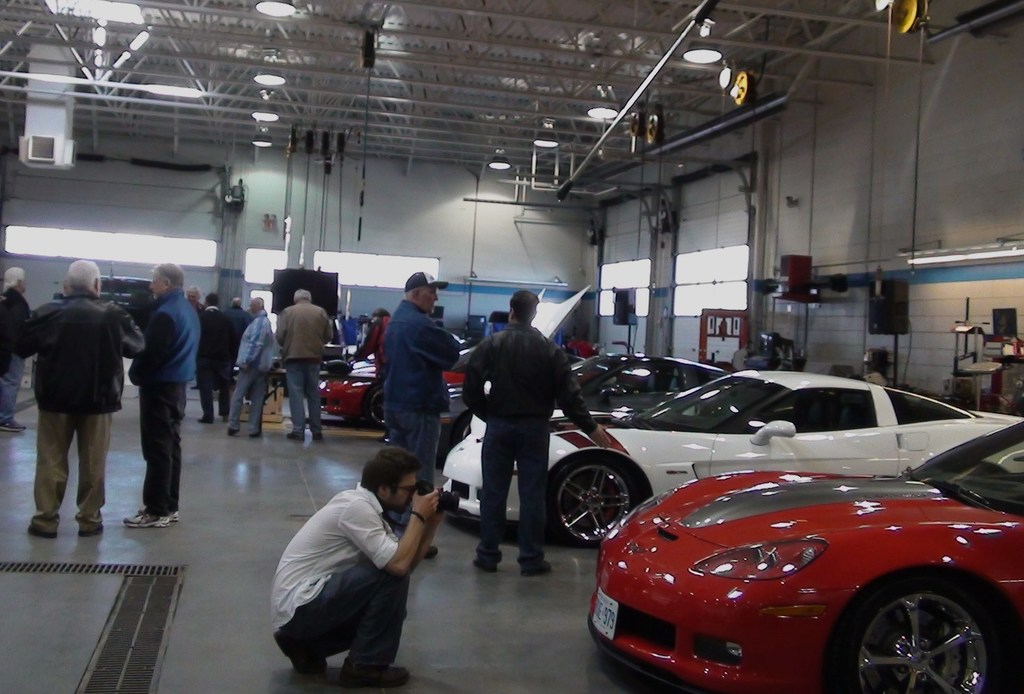Car: (306, 283, 1023, 693)
